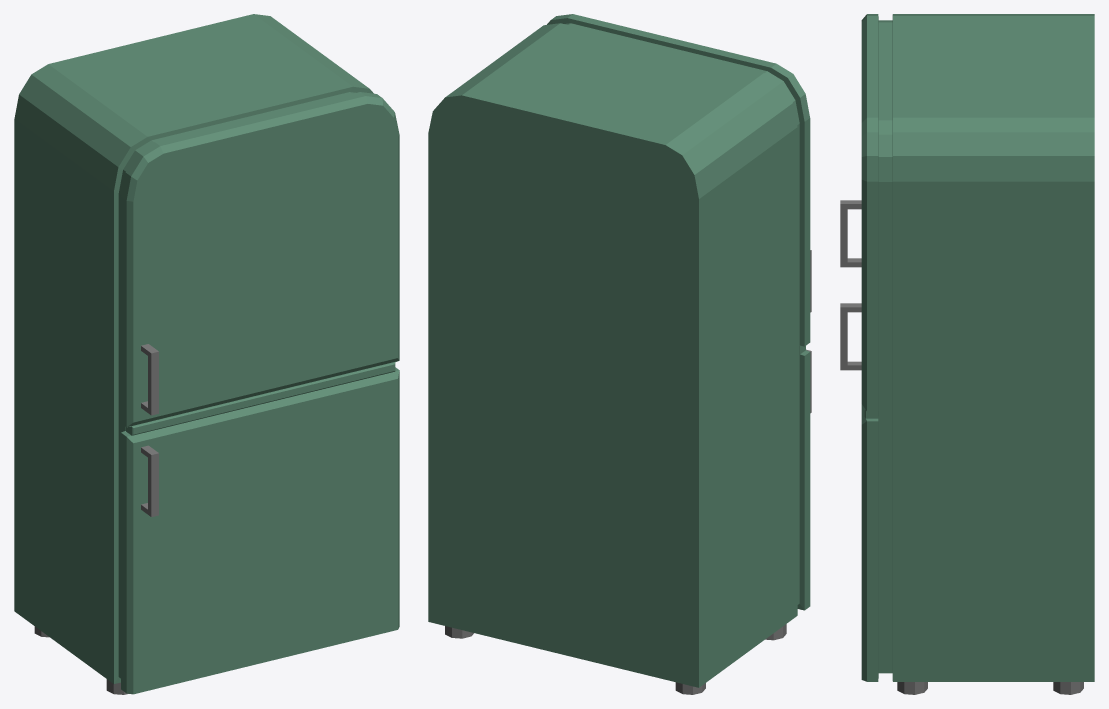
Rendered from Fridge.fbx.
3 views of the same model, side by side, from view 1: azimuth 30°, elevation 25°; view 2: azimuth 150°, elevation 25°; view 3: azimuth 270°, elevation 25° (orthographic). The views are drawn at different scales.
Parts seen in each view (by area): view 1: Fridge; view 2: Fridge; view 3: Fridge.
Boxes of the visible parts, x1,y1,x2,y2 form: Fridge: (14, 14, 399, 694); Fridge: (428, 14, 811, 694); Fridge: (840, 14, 1094, 694).
Bounding box in the file's own units: 152 × 296 × 121.
